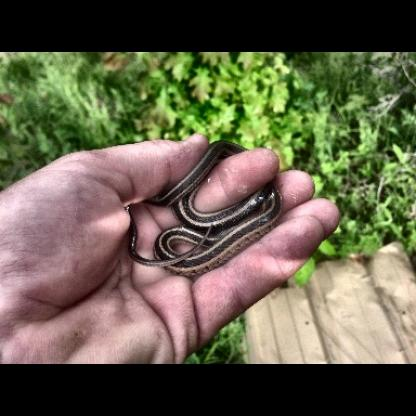Snake: (119, 140, 282, 276)
